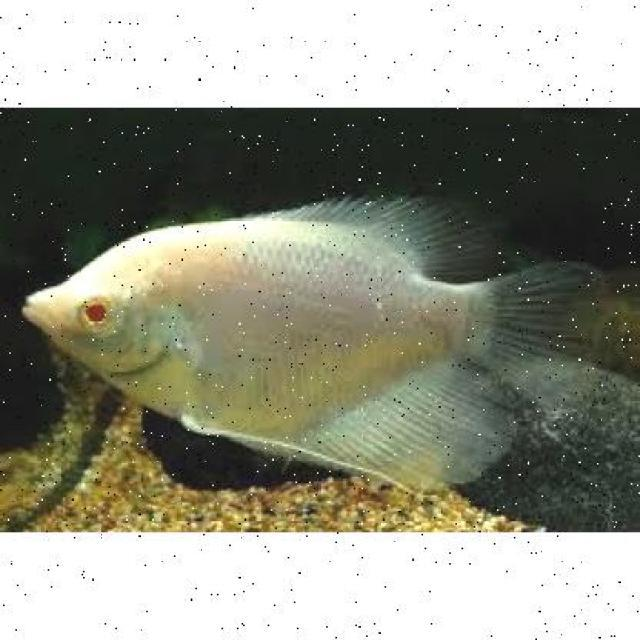gurame: (28, 211, 564, 491)
